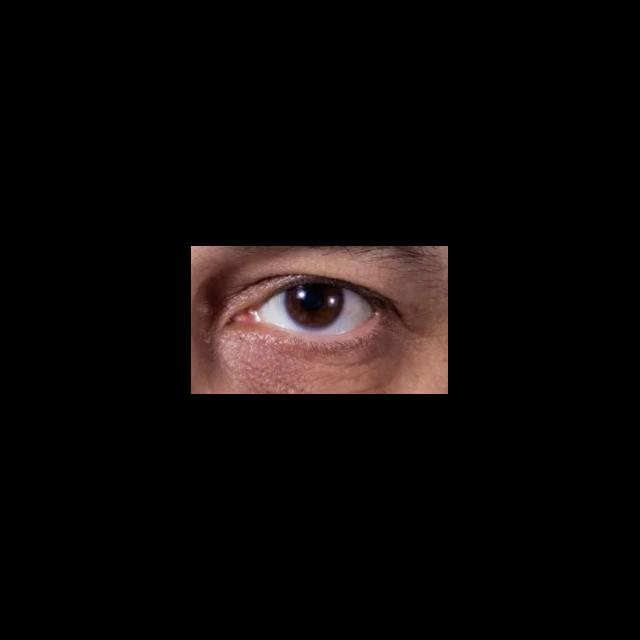eye: (263, 282, 375, 336)
iris: (287, 285, 344, 329)
